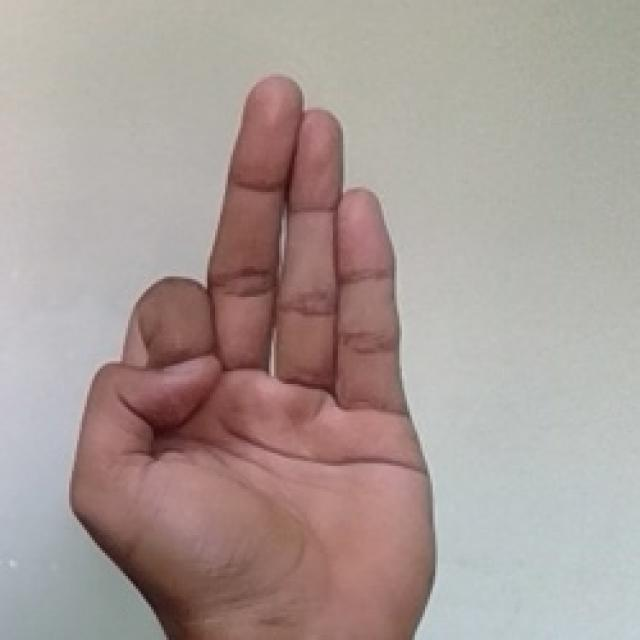Numeric-9: (64, 63, 438, 611)
